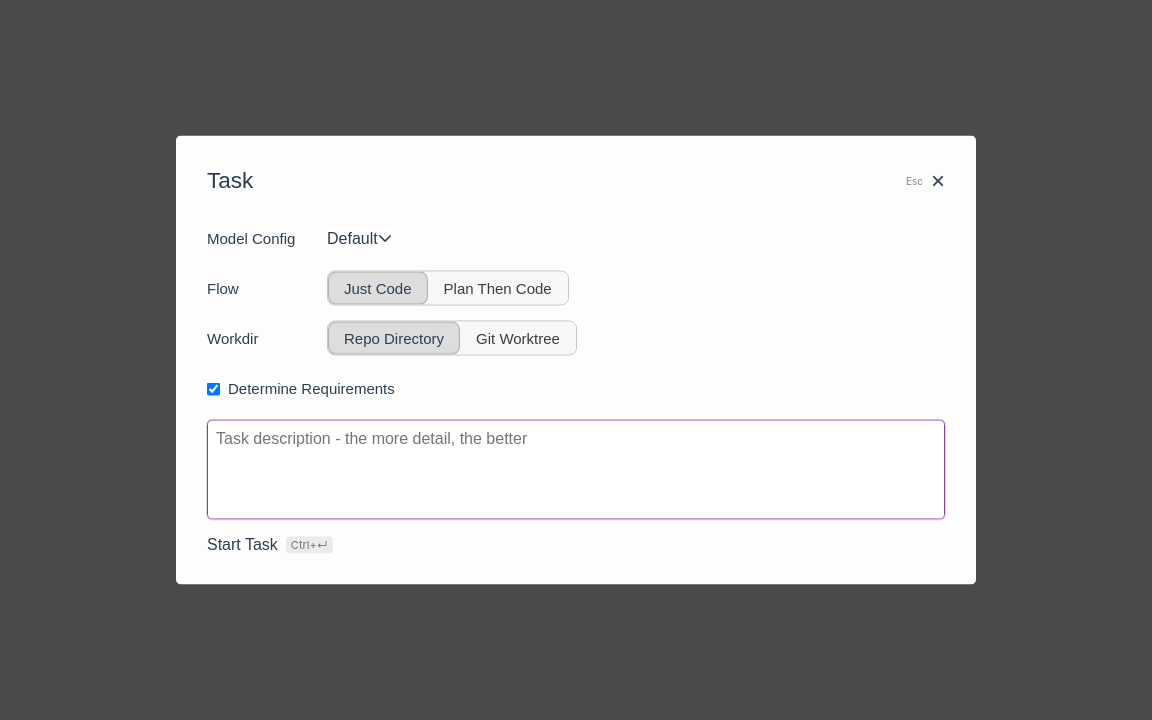
Test: TaskModal localStorage behavior › save indicator › shows saving indicator when dirty
This screenshot has width=1152, height=720.
Type "Some description" into the text box with placeholder "Task description - the more detail, the better".
click(576, 470); type("Some description")  # box [207,420,945,520]
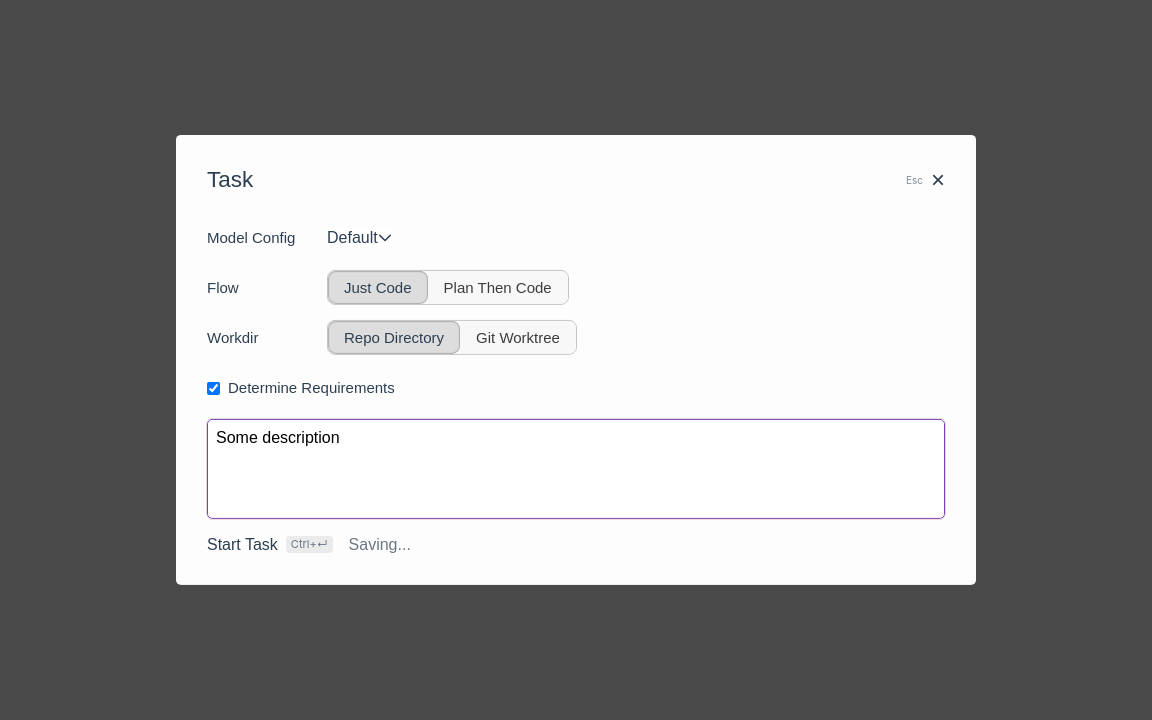
Expected: the element with class "save-indicator" reads "Saving...", [349,536,411,553]
